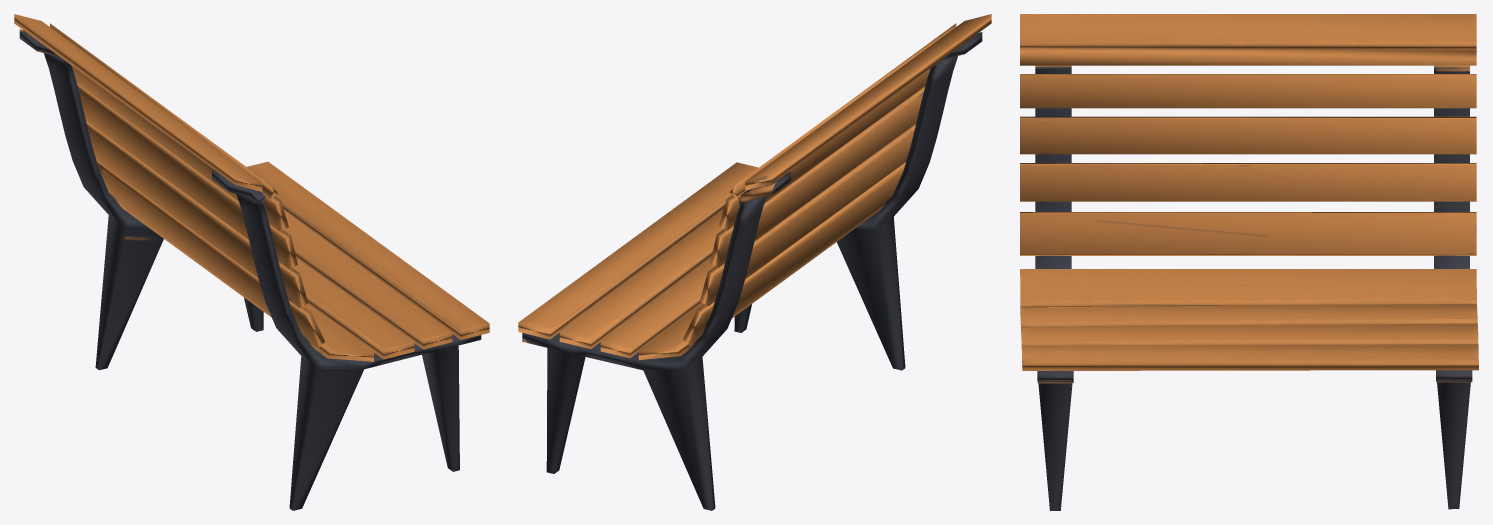
Rendered from Bench.fbx.
The picture shows the model from 3 angles, left to right: view 1: azimuth 30°, elevation 25°; view 2: azimuth 150°, elevation 25°; view 3: azimuth 270°, elevation 25°; orthographic projection. The views are drawn at different scales.
Visible parts, largest first — view 1: Bench; view 2: Bench; view 3: Bench.
Boxes of the visible parts, x1,y1,x2,y2 form: Bench: [14, 14, 489, 510]; Bench: [518, 14, 991, 510]; Bench: [1020, 14, 1478, 510].
Bounding box in the file's own units: 89.3 × 121 × 134.
1 material, 1 textured.
